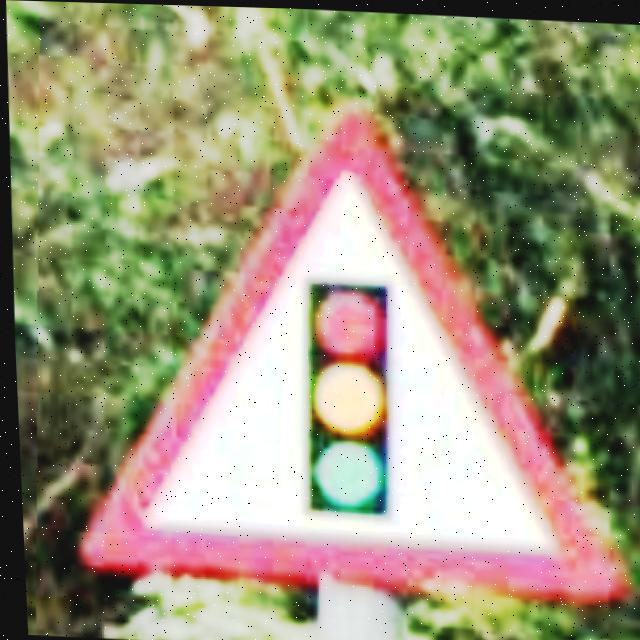signalahead: (77, 109, 619, 599)
